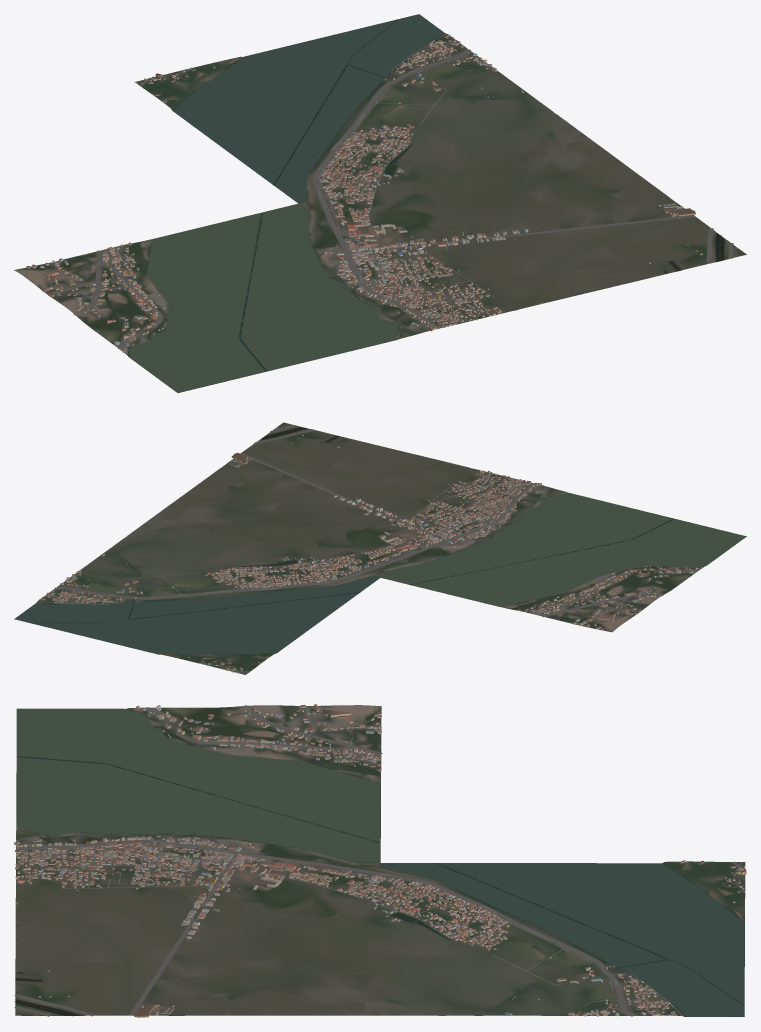
3 renders of one model, top to bottom at view 1: azimuth 30°, elevation 25°; view 2: azimuth 150°, elevation 25°; view 3: azimuth 270°, elevation 25°, orthographic. The views are drawn at different scales.
Parts seen in each view (by area): view 1: ground, water, buildings, roads; view 2: ground, water, buildings, roads; view 3: ground, water, buildings, roads.
Boxes of the visible parts, x1,y1,x2,y2 form: ground: (14, 15, 746, 392); water: (129, 14, 724, 392); buildings: (26, 34, 702, 352); roads: (41, 33, 733, 349); ground: (14, 422, 746, 674); water: (15, 427, 746, 654); buildings: (39, 434, 702, 672); roads: (37, 425, 698, 674); ground: (15, 705, 745, 1016); water: (15, 708, 744, 1016); buildings: (14, 704, 746, 1017); roads: (14, 705, 746, 1016).
Bounding box in the file's own units: 2822 × 25.32 × 2818.
